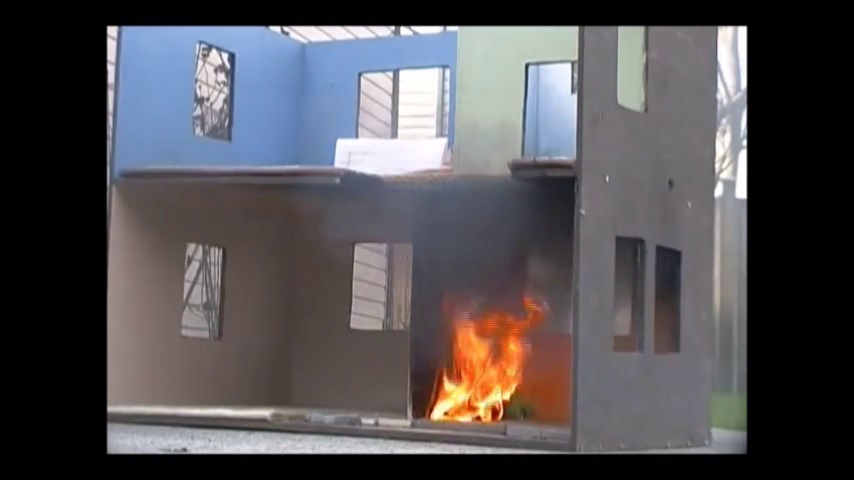fire: (434, 301, 526, 420)
